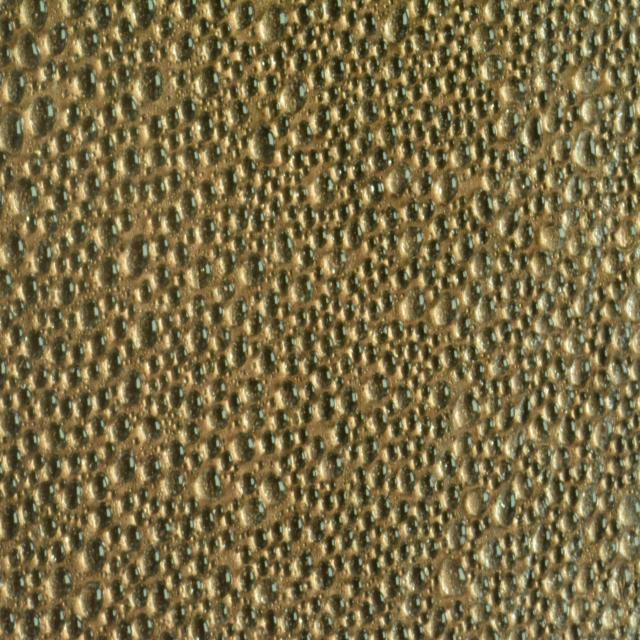dr: (440, 556, 468, 599), (29, 94, 57, 136), (136, 65, 165, 104), (454, 388, 480, 430), (261, 4, 288, 44), (386, 157, 412, 198), (0, 111, 24, 155), (572, 131, 598, 171), (126, 235, 151, 276), (14, 178, 41, 215), (252, 122, 276, 163), (281, 77, 307, 114), (385, 5, 410, 43), (401, 287, 426, 325), (74, 62, 98, 101), (80, 580, 104, 619), (46, 565, 72, 601), (433, 292, 460, 326), (17, 32, 41, 70), (208, 563, 232, 601), (20, 0, 49, 31), (112, 450, 137, 485), (0, 501, 20, 544), (495, 206, 521, 239), (83, 535, 106, 572), (262, 472, 287, 506), (3, 230, 25, 268), (197, 467, 222, 500), (496, 485, 516, 526), (45, 22, 69, 56), (242, 252, 266, 286), (434, 171, 458, 205), (136, 310, 158, 347), (534, 67, 561, 97), (610, 218, 637, 248), (242, 495, 267, 527), (610, 323, 634, 356), (541, 223, 568, 252), (173, 30, 196, 64), (198, 65, 221, 99), (576, 64, 601, 95), (120, 368, 142, 403), (618, 493, 640, 528), (603, 605, 625, 640), (312, 558, 336, 590), (97, 256, 120, 289), (616, 94, 634, 136), (466, 487, 492, 516), (502, 77, 527, 107), (76, 26, 100, 57), (7, 68, 27, 105), (482, 56, 505, 88), (581, 92, 604, 124), (532, 521, 553, 556), (525, 113, 542, 156), (79, 299, 101, 332), (24, 327, 46, 360), (320, 451, 345, 480), (33, 238, 53, 274), (256, 576, 280, 606), (313, 172, 336, 203), (17, 609, 40, 640), (544, 98, 564, 133), (162, 468, 186, 497), (363, 173, 384, 206), (242, 376, 265, 406), (142, 542, 161, 578), (98, 216, 119, 248), (46, 420, 67, 452), (280, 377, 301, 409), (402, 227, 423, 259), (474, 24, 498, 52), (501, 108, 522, 140), (152, 578, 170, 615), (477, 187, 494, 226), (613, 563, 630, 602), (118, 91, 140, 121), (54, 276, 76, 306), (190, 320, 210, 353), (141, 454, 163, 484), (234, 431, 256, 461), (368, 370, 390, 400), (510, 172, 532, 202), (619, 530, 640, 561), (230, 330, 248, 366), (192, 255, 212, 287), (0, 408, 21, 438), (134, 610, 155, 640), (292, 274, 313, 304), (93, 499, 112, 532), (121, 145, 141, 176), (447, 519, 467, 550), (134, 0, 156, 28), (325, 248, 347, 276), (412, 169, 434, 197), (580, 486, 598, 520), (6, 570, 27, 599), (220, 165, 239, 197), (229, 295, 248, 327), (141, 414, 161, 444), (369, 459, 389, 489), (610, 356, 630, 386), (570, 594, 590, 624), (64, 478, 82, 511), (44, 603, 66, 630), (292, 550, 314, 577), (196, 111, 215, 142), (22, 492, 41, 523), (166, 438, 185, 469), (588, 512, 607, 543), (110, 413, 131, 441), (208, 402, 229, 430), (407, 566, 428, 594), (552, 443, 573, 471), (93, 0, 113, 29), (477, 325, 497, 354), (21, 274, 39, 306), (430, 605, 448, 637), (565, 330, 587, 356), (380, 120, 399, 150), (593, 420, 612, 450), (429, 382, 450, 409), (198, 504, 215, 537), (565, 172, 582, 205), (438, 449, 458, 477), (533, 252, 553, 280), (179, 190, 198, 219), (385, 52, 404, 81), (123, 523, 142, 552), (396, 465, 415, 494), (276, 233, 295, 262), (572, 357, 591, 386), (558, 415, 577, 444), (358, 99, 379, 125), (183, 574, 204, 600), (244, 404, 265, 430), (575, 290, 596, 316), (314, 104, 331, 136), (184, 392, 204, 419), (35, 477, 55, 504), (318, 390, 336, 420), (340, 385, 358, 415), (258, 347, 278, 374), (602, 296, 622, 323), (625, 286, 640, 322), (239, 564, 258, 592), (381, 570, 400, 598), (462, 457, 481, 485), (412, 26, 431, 54), (236, 605, 258, 629), (450, 147, 472, 171), (602, 248, 624, 272), (417, 469, 434, 500), (579, 564, 596, 595), (392, 384, 413, 409), (552, 136, 573, 161), (59, 0, 88, 18), (52, 184, 70, 213), (236, 1, 254, 30), (198, 215, 216, 244), (486, 540, 504, 569), (82, 172, 102, 198), (74, 391, 94, 417), (190, 612, 210, 638), (312, 364, 332, 390), (80, 116, 99, 143), (39, 389, 58, 416), (484, 165, 503, 192), (0, 604, 16, 636), (262, 609, 279, 639), (345, 220, 362, 250), (362, 206, 379, 236), (458, 233, 475, 263), (484, 1, 507, 23), (355, 126, 373, 154), (153, 262, 171, 290), (308, 514, 326, 542), (583, 31, 601, 59), (466, 279, 484, 307), (149, 142, 168, 168), (315, 611, 334, 637), (555, 304, 574, 330), (105, 347, 122, 376), (317, 329, 334, 358), (205, 34, 223, 61), (48, 337, 66, 364), (443, 483, 461, 510), (382, 205, 400, 232), (434, 213, 452, 240), (207, 378, 228, 401), (294, 122, 314, 146), (512, 372, 532, 396), (499, 402, 515, 432), (87, 413, 106, 438), (231, 98, 249, 124), (329, 55, 347, 81), (392, 498, 410, 524), (588, 392, 606, 418), (532, 412, 550, 438), (92, 470, 108, 499), (178, 0, 200, 21), (145, 116, 164, 140), (198, 180, 217, 204), (189, 294, 208, 318), (31, 364, 50, 388), (0, 473, 19, 497), (55, 128, 73, 153), (108, 577, 126, 602), (178, 514, 196, 539), (184, 448, 202, 473), (247, 311, 265, 336), (592, 0, 610, 25), (554, 598, 569, 628), (118, 16, 134, 44), (165, 206, 181, 234), (311, 62, 327, 90), (0, 268, 14, 300), (375, 493, 391, 521), (514, 530, 530, 558), (180, 96, 197, 122), (205, 140, 222, 166), (238, 40, 255, 66), (116, 206, 133, 232), (371, 146, 388, 172), (168, 382, 185, 408), (66, 613, 83, 639), (309, 435, 326, 461), (443, 345, 460, 371), (516, 472, 533, 498), (181, 148, 202, 169), (373, 322, 392, 345), (333, 317, 347, 348), (151, 175, 167, 202), (112, 313, 128, 340), (14, 356, 32, 380), (71, 424, 89, 448), (67, 526, 85, 550), (154, 518, 172, 542), (286, 511, 302, 538), (455, 431, 473, 455), (266, 318, 284, 342), (476, 253, 492, 280), (600, 538, 618, 562), (294, 2, 311, 27), (541, 290, 558, 315), (238, 473, 257, 495), (66, 101, 82, 127), (120, 178, 136, 204), (172, 241, 188, 267), (214, 324, 230, 350), (282, 605, 298, 631), (263, 290, 279, 316), (480, 296, 496, 322), (73, 148, 91, 171), (240, 155, 258, 178), (69, 220, 87, 243), (6, 445, 24, 468), (131, 584, 149, 607), (572, 5, 590, 28), (608, 453, 626, 476), (115, 64, 132, 88), (158, 14, 175, 38), (390, 80, 407, 104), (43, 208, 60, 232), (219, 249, 236, 273), (344, 270, 361, 294), (424, 238, 441, 262), (513, 144, 530, 168), (403, 197, 418, 224), (510, 432, 525, 459), (172, 601, 188, 626), (176, 542, 192, 567), (355, 528, 371, 553), (372, 408, 388, 433), (304, 302, 320, 327), (483, 121, 499, 146), (570, 230, 586, 255), (561, 206, 581, 226), (392, 619, 411, 640), (90, 330, 108, 352), (22, 430, 40, 452), (328, 594, 346, 616), (498, 251, 516, 273), (590, 458, 604, 486), (139, 40, 156, 63), (361, 12, 378, 35), (586, 244, 603, 267), (351, 156, 366, 182), (95, 384, 110, 410), (51, 538, 66, 564), (334, 417, 349, 443), (228, 388, 241, 418), (299, 244, 314, 270), (519, 221, 534, 247), (583, 266, 598, 292), (101, 73, 117, 97), (164, 105, 180, 129), (250, 208, 266, 232), (66, 364, 82, 388), (46, 454, 62, 478), (370, 590, 386, 614), (406, 594, 422, 618), (430, 414, 446, 438), (298, 400, 314, 424), (542, 41, 558, 65), (546, 192, 562, 216), (520, 275, 536, 299), (488, 435, 504, 459), (208, 0, 226, 21), (236, 204, 250, 231), (438, 106, 452, 133), (503, 569, 517, 596), (437, 43, 452, 68), (569, 534, 584, 559), (27, 153, 44, 175), (98, 134, 115, 156), (183, 422, 200, 444), (119, 492, 136, 514), (272, 407, 289, 429), (392, 267, 409, 289), (593, 372, 610, 394), (262, 73, 278, 96), (48, 307, 64, 330), (10, 324, 26, 347), (17, 384, 33, 407), (84, 449, 100, 472), (303, 351, 319, 374), (312, 225, 328, 248), (540, 18, 556, 41), (532, 190, 546, 216), (102, 102, 117, 126), (103, 156, 118, 180), (59, 396, 74, 420), (126, 560, 141, 584), (261, 430, 276, 454), (383, 526, 401, 546), (356, 483, 371, 507), (518, 394, 530, 424), (475, 572, 490, 596), (325, 0, 342, 21), (40, 516, 57, 537), (116, 619, 133, 640), (104, 187, 120, 209), (336, 138, 352, 160), (414, 498, 430, 520), (355, 318, 371, 340), (382, 353, 398, 375), (582, 176, 598, 198), (506, 298, 522, 320), (494, 354, 510, 376), (562, 510, 578, 532), (0, 17, 14, 42), (0, 306, 14, 331), (290, 578, 304, 603), (498, 318, 512, 343), (623, 26, 635, 55), (57, 154, 72, 177), (111, 39, 126, 62), (360, 73, 375, 96), (400, 136, 415, 159), (209, 302, 224, 325), (221, 528, 236, 551), (359, 600, 374, 623), (280, 429, 295, 452), (536, 493, 551, 516), (423, 538, 440, 558), (434, 0, 451, 20), (244, 75, 260, 96), (273, 46, 287, 70), (138, 278, 152, 302), (167, 284, 181, 308), (305, 484, 319, 508), (292, 447, 308, 468), (278, 270, 292, 294), (300, 327, 316, 348), (404, 341, 420, 362), (596, 138, 612, 159), (624, 61, 638, 85), (625, 192, 637, 220), (538, 554, 550, 582), (538, 445, 552, 469), (333, 159, 348, 181), (355, 37, 370, 59), (612, 278, 627, 300), (43, 59, 57, 82), (276, 113, 290, 136), (412, 118, 426, 141), (85, 239, 99, 262), (104, 603, 118, 626), (450, 598, 464, 621), (285, 353, 299, 376), (392, 318, 406, 341), (427, 74, 441, 97), (526, 4, 540, 27), (608, 65, 622, 88), (500, 458, 514, 481), (560, 386, 574, 409), (348, 554, 364, 574), (366, 556, 382, 576), (480, 624, 500, 640), (564, 560, 580, 580), (106, 554, 121, 575), (508, 625, 529, 640), (303, 205, 316, 229), (340, 30, 353, 54), (340, 526, 353, 550), (425, 442, 437, 468), (381, 290, 394, 314), (418, 146, 431, 170), (458, 313, 470, 339), (554, 356, 567, 380), (20, 540, 34, 562), (256, 556, 270, 578), (206, 435, 220, 457), (336, 201, 350, 223), (338, 353, 352, 375), (368, 299, 382, 321), (423, 264, 437, 286), (564, 277, 578, 299), (168, 169, 183, 189), (213, 602, 228, 622), (320, 491, 335, 511), (382, 230, 397, 250), (558, 48, 570, 73), (465, 342, 480, 362), (553, 540, 565, 565), (271, 520, 284, 543), (155, 234, 169, 255), (70, 341, 84, 362), (190, 362, 204, 383), (344, 501, 358, 522), (420, 101, 434, 122), (506, 277, 520, 298), (511, 343, 525, 364), (551, 270, 565, 291), (564, 257, 578, 278), (412, 1, 429, 18), (0, 43, 12, 67), (55, 60, 71, 78), (327, 278, 343, 296), (352, 340, 364, 364), (428, 124, 440, 148), (602, 158, 618, 176), (622, 395, 634, 419), (552, 478, 564, 502), (40, 174, 53, 196), (269, 195, 282, 217), (218, 278, 231, 300), (169, 325, 182, 347), (68, 452, 81, 474), (470, 518, 483, 540), (362, 256, 375, 278), (445, 71, 458, 93), (511, 34, 524, 56), (528, 331, 541, 353), (523, 566, 536, 588), (353, 464, 368, 483), (114, 126, 128, 146), (268, 99, 282, 119), (294, 49, 308, 69), (154, 394, 168, 414), (86, 360, 100, 380), (108, 521, 122, 541), (193, 552, 207, 572), (410, 620, 424, 640), (304, 466, 318, 486), (364, 278, 378, 298), (376, 264, 390, 284), (582, 210, 596, 230), (482, 415, 496, 435), (216, 352, 228, 375), (405, 409, 417, 432), (344, 300, 356, 323), (536, 159, 548, 182), (568, 483, 580, 506), (609, 388, 621, 411), (167, 129, 180, 150), (136, 179, 149, 200), (243, 182, 256, 203), (345, 7, 358, 28), (26, 468, 39, 489), (137, 485, 150, 506), (396, 540, 409, 561), (556, 5, 569, 26), (546, 401, 559, 422), (470, 364, 486, 381), (174, 69, 189, 87), (366, 56, 381, 74), (11, 298, 26, 316), (31, 452, 46, 470), (101, 442, 116, 460), (239, 546, 254, 564), (433, 150, 448, 168), (7, 548, 21, 567), (184, 496, 198, 515), (330, 513, 344, 532), (331, 226, 345, 245), (538, 349, 552, 368), (36, 544, 48, 566), (254, 528, 266, 550), (324, 532, 336, 554), (475, 136, 486, 160), (551, 165, 563, 187), (626, 5, 638, 27), (550, 569, 562, 591), (3, 165, 16, 185), (284, 34, 297, 54), (279, 144, 292, 164), (337, 99, 350, 119), (312, 2, 325, 22), (69, 250, 82, 270), (176, 345, 189, 365), (35, 308, 48, 328), (1, 389, 14, 409), (29, 590, 42, 610), (163, 498, 176, 518), (310, 595, 323, 615), (390, 418, 403, 438), (328, 294, 341, 314), (365, 344, 378, 364), (422, 201, 435, 221), (464, 62, 477, 82), (511, 6, 524, 26), (611, 20, 624, 40), (575, 460, 588, 480), (496, 611, 509, 631), (598, 343, 609, 366), (581, 418, 592, 441), (302, 26, 316, 44), (443, 251, 455, 272), (454, 268, 468, 286), (455, 209, 467, 230), (618, 419, 632, 437), (539, 467, 551, 488), (564, 581, 576, 602), (418, 416, 431, 435), (405, 66, 418, 85), (602, 492, 615, 511), (536, 616, 547, 638), (257, 184, 269, 204), (259, 164, 271, 184), (293, 149, 305, 169), (345, 180, 357, 200), (163, 348, 175, 368), (30, 568, 42, 588), (171, 569, 183, 589), (350, 576, 362, 596), (406, 516, 418, 536), (336, 488, 348, 508), (304, 382, 316, 402), (415, 322, 427, 342), (452, 118, 464, 138), (600, 322, 612, 342), (467, 548, 479, 568), (530, 586, 542, 606), (475, 101, 489, 118), (541, 317, 555, 334), (99, 53, 112, 71), (230, 61, 243, 79), (79, 201, 92, 219), (149, 212, 162, 230), (103, 292, 116, 310), (362, 512, 375, 530), (411, 452, 424, 470), (412, 434, 425, 452), (409, 260, 422, 278), (496, 192, 509, 210), (596, 225, 609, 243), (614, 46, 627, 64), (608, 519, 621, 537), (383, 546, 394, 567), (401, 359, 412, 380), (500, 150, 511, 171), (182, 126, 194, 145), (327, 83, 339, 102), (234, 236, 246, 255), (162, 311, 174, 330), (432, 355, 444, 374), (492, 271, 504, 290), (591, 614, 603, 633), (298, 508, 312, 524), (540, 0, 556, 14), (567, 624, 581, 640), (197, 17, 210, 34), (400, 120, 413, 137), (184, 227, 197, 244), (219, 226, 232, 243), (26, 215, 39, 232), (457, 35, 470, 52), (498, 26, 511, 43), (489, 397, 502, 414), (601, 176, 614, 193), (525, 438, 538, 455), (163, 553, 174, 573), (386, 441, 397, 461), (573, 46, 583, 68), (518, 252, 529, 272), (507, 548, 518, 568), (128, 124, 140, 142), (216, 120, 228, 138), (287, 203, 299, 221), (307, 148, 319, 166), (376, 38, 388, 56), (430, 521, 442, 539), (352, 198, 364, 216), (442, 25, 454, 43), (600, 27, 612, 45), (479, 227, 491, 245), (528, 298, 540, 316), (607, 89, 619, 107), (618, 141, 630, 159), (373, 626, 388, 640), (476, 78, 486, 99), (599, 48, 609, 69), (489, 374, 499, 395), (316, 204, 327, 223), (463, 613, 474, 632), (292, 220, 303, 239), (451, 98, 462, 117), (538, 90, 549, 109), (615, 177, 626, 196), (629, 450, 640, 469), (540, 595, 551, 614), (282, 186, 295, 202), (147, 356, 160, 372), (206, 536, 219, 552), (467, 4, 480, 20), (594, 597, 607, 613), (402, 39, 414, 56), (253, 235, 265, 252), (58, 236, 70, 253), (221, 452, 233, 469), (284, 334, 296, 351), (487, 147, 499, 164), (526, 30, 538, 47), (513, 328, 525, 345), (608, 193, 620, 210), (535, 368, 547, 385), (578, 441, 590, 458), (481, 601, 493, 618), (296, 308, 306, 328), (588, 336, 598, 356), (515, 605, 525, 625), (346, 118, 357, 136), (220, 203, 231, 221), (279, 452, 290, 470), (412, 538, 423, 556), (561, 26, 572, 44), (500, 376, 511, 394), (297, 626, 311, 640), (336, 625, 349, 640), (220, 21, 232, 37), (296, 186, 308, 202), (134, 507, 146, 523), (56, 522, 68, 538), (354, 628, 370, 640), (440, 274, 452, 290), (521, 312, 533, 328), (606, 104, 618, 120), (51, 366, 61, 385), (348, 442, 358, 461), (400, 437, 410, 456), (322, 310, 332, 329), (466, 117, 476, 136), (464, 96, 474, 115), (534, 387, 544, 406), (326, 26, 337, 43), (55, 255, 66, 272), (178, 308, 189, 325), (125, 338, 136, 355), (204, 359, 215, 376), (297, 427, 308, 444), (348, 58, 360, 73), (170, 363, 182, 378), (66, 314, 78, 329), (230, 588, 240, 606), (292, 487, 304, 502), (334, 552, 344, 570), (481, 457, 493, 472), (315, 263, 324, 283), (457, 364, 467, 382), (468, 217, 480, 232), (455, 0, 467, 15), (574, 26, 584, 44), (626, 174, 636, 192), (528, 508, 538, 526), (39, 282, 50, 298), (290, 470, 301, 486), (423, 366, 434, 382), (459, 82, 470, 98), (524, 48, 535, 64), (567, 90, 578, 106), (627, 250, 638, 266), (547, 382, 558, 398), (378, 79, 388, 96), (226, 510, 236, 527), (280, 542, 290, 559), (421, 522, 431, 539), (411, 373, 421, 390), (628, 470, 638, 487), (504, 532, 514, 549), (228, 84, 240, 98), (83, 626, 95, 640), (598, 118, 610, 132), (633, 131, 640, 155), (628, 380, 640, 394), (527, 607, 539, 621), (126, 49, 137, 64), (227, 36, 238, 51), (144, 393, 155, 408), (148, 377, 159, 392), (281, 302, 292, 317), (610, 212, 621, 227), (616, 435, 625, 453), (228, 131, 238, 147), (78, 278, 88, 294), (418, 398, 428, 414), (420, 382, 430, 398), (421, 346, 431, 362), (412, 86, 422, 102), (592, 194, 602, 210), (552, 506, 562, 522), (606, 473, 616, 489), (626, 434, 636, 450), (574, 404, 584, 420), (532, 462, 542, 478), (632, 596, 640, 616), (299, 613, 311, 626), (594, 287, 606, 300), (253, 41, 264, 55), (149, 498, 160, 512), (571, 106, 582, 120), (395, 105, 404, 122), (631, 412, 640, 429), (69, 176, 79, 191), (272, 559, 282, 574), (326, 477, 336, 492), (387, 475, 397, 490), (320, 294, 330, 309), (367, 237, 377, 252), (453, 13, 463, 28), (492, 473, 502, 488), (522, 454, 532, 469), (177, 270, 186, 286), (215, 504, 224, 520), (453, 52, 462, 68), (467, 48, 476, 64), (479, 382, 488, 398), (554, 334, 563, 350), (240, 135, 250, 149), (261, 56, 271, 70), (270, 178, 280, 192), (293, 172, 303, 186), (126, 303, 136, 317), (266, 241, 276, 255), (158, 372, 168, 386), (373, 542, 383, 556), (350, 427, 360, 441), (432, 502, 442, 516), (593, 307, 603, 321), (333, 123, 341, 140), (81, 262, 90, 277), (283, 563, 292, 578), (346, 611, 355, 626), (600, 204, 609, 219), (563, 466, 572, 481), (601, 579, 610, 594), (220, 55, 230, 68), (322, 149, 332, 162), (213, 245, 223, 258), (382, 610, 392, 623), (509, 241, 519, 254), (80, 512, 88, 528), (203, 597, 211, 613), (632, 86, 640, 102), (517, 512, 525, 528), (468, 568, 476, 584), (283, 171, 292, 185), (27, 406, 36, 420), (121, 550, 130, 564), (227, 622, 236, 636), (441, 508, 450, 522), (435, 478, 444, 492), (432, 333, 441, 347), (616, 476, 625, 490), (57, 478, 67, 490), (268, 543, 276, 558), (458, 196, 468, 208), (488, 87, 496, 102), (608, 126, 616, 141), (505, 599, 515, 611), (117, 299, 126, 312), (110, 382, 119, 395), (445, 330, 454, 343), (427, 56, 436, 69), (493, 101, 502, 114), (621, 162, 630, 175), (422, 612, 431, 625), (557, 531, 566, 544), (529, 554, 538, 567), (160, 45, 168, 59), (170, 152, 178, 166), (322, 44, 330, 58), (351, 76, 359, 90), (406, 102, 414, 116), (483, 516, 491, 530), (580, 388, 588, 402), (494, 588, 502, 602), (520, 591, 528, 605), (310, 50, 320, 61), (383, 105, 393, 116), (388, 254, 397, 266), (469, 165, 478, 177), (495, 292, 504, 304), (521, 64, 528, 79), (111, 404, 119, 417), (463, 22, 471, 35), (511, 58, 519, 71), (476, 440, 484, 453), (354, 0, 364, 10), (410, 56, 420, 66), (566, 164, 575, 175), (493, 575, 502, 586), (31, 80, 39, 92), (316, 36, 324, 48), (318, 23, 326, 35), (268, 216, 276, 228), (47, 274, 55, 286), (374, 525, 382, 537), (416, 362, 424, 374), (537, 282, 545, 294), (575, 316, 583, 328), (548, 623, 556, 635), (613, 0, 622, 10), (592, 322, 598, 337), (237, 631, 248, 639), (351, 93, 358, 105), (628, 267, 636, 277), (565, 123, 573, 132), (433, 34, 440, 44), (427, 597, 434, 607), (554, 520, 559, 533), (429, 562, 434, 574), (434, 575, 440, 585), (626, 356, 633, 364), (420, 62, 425, 72), (529, 98, 534, 108), (635, 53, 640, 62), (521, 504, 526, 513), (430, 587, 434, 594)
